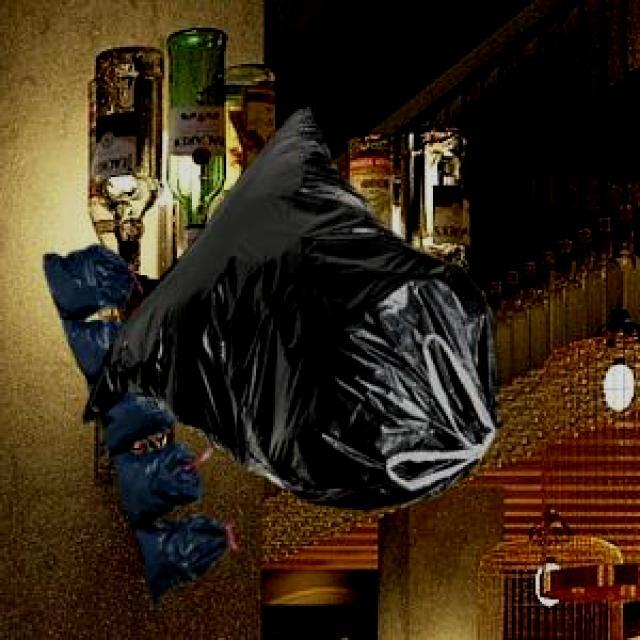Trashbag: (197, 174, 520, 506), (133, 517, 230, 591), (48, 236, 136, 316), (117, 445, 205, 523), (99, 388, 174, 458)
